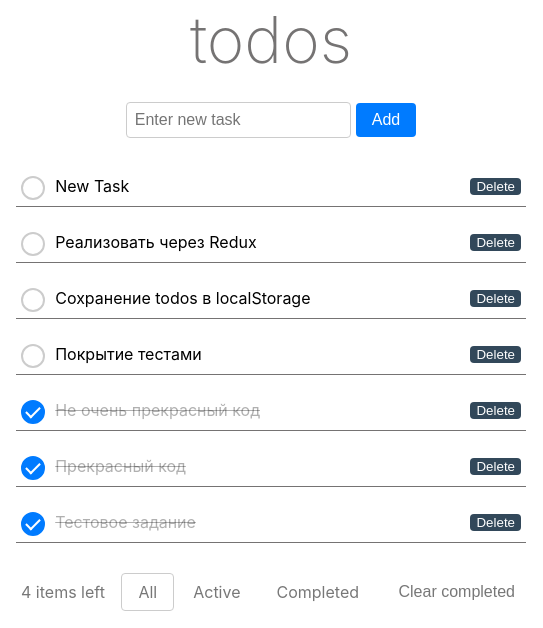
filters tasks
Click the text "Active" at (217, 592), box [176,573,258,611]
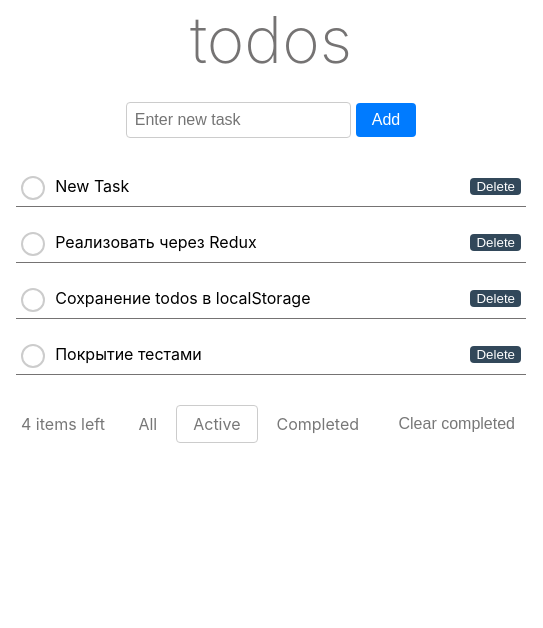
Expected: the text "Покрытие тестами" is shown, [55,344,202,364]
Now the text "прекрасный код" is gone
Click the text "Completed" at (318, 424), box [260,405,376,443]
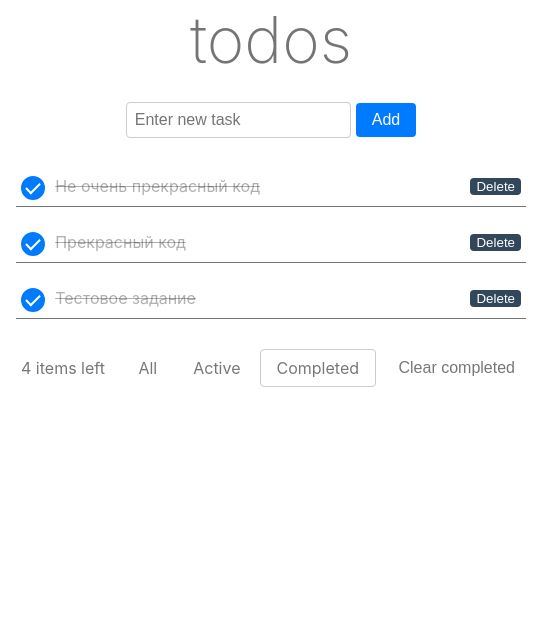
Now the text "Прекрасный код" is shown, box [55,232,186,252]
Now the text "Покрытие тестами" is gone
